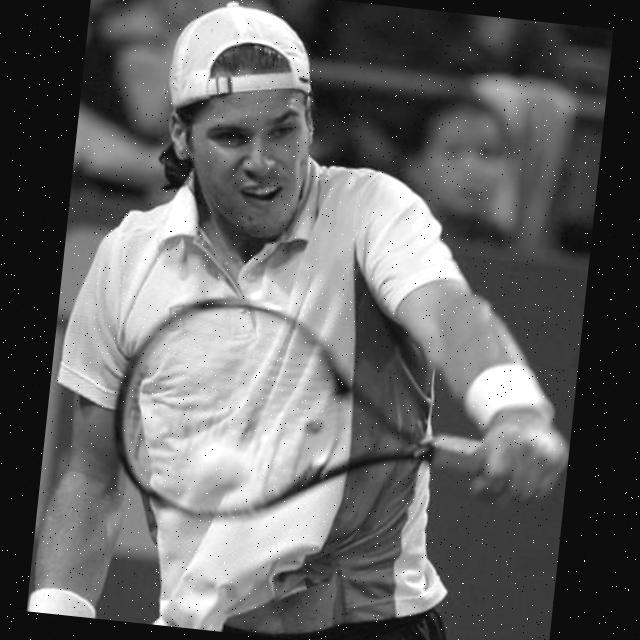face: (142, 58, 328, 236)
